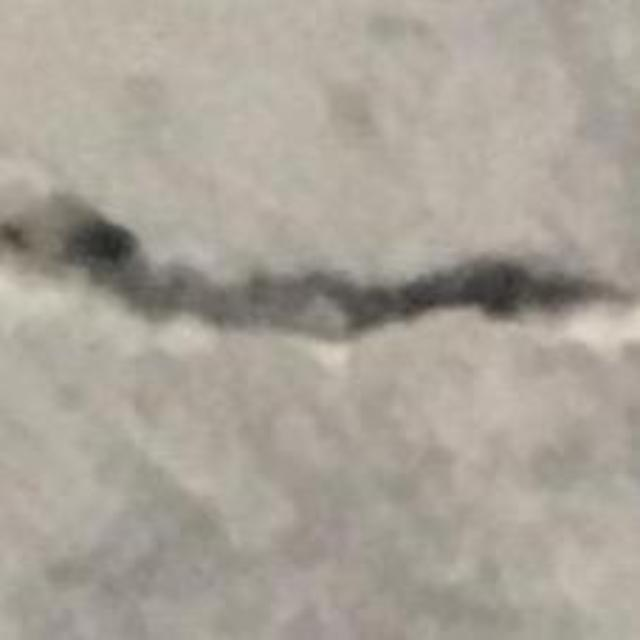crack: (0, 184, 631, 341)
